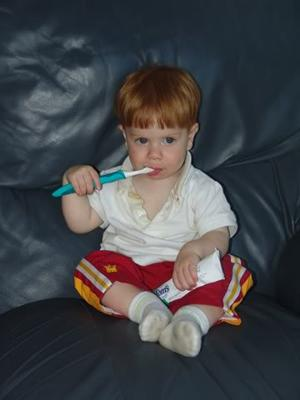person: (63, 69, 252, 360)
